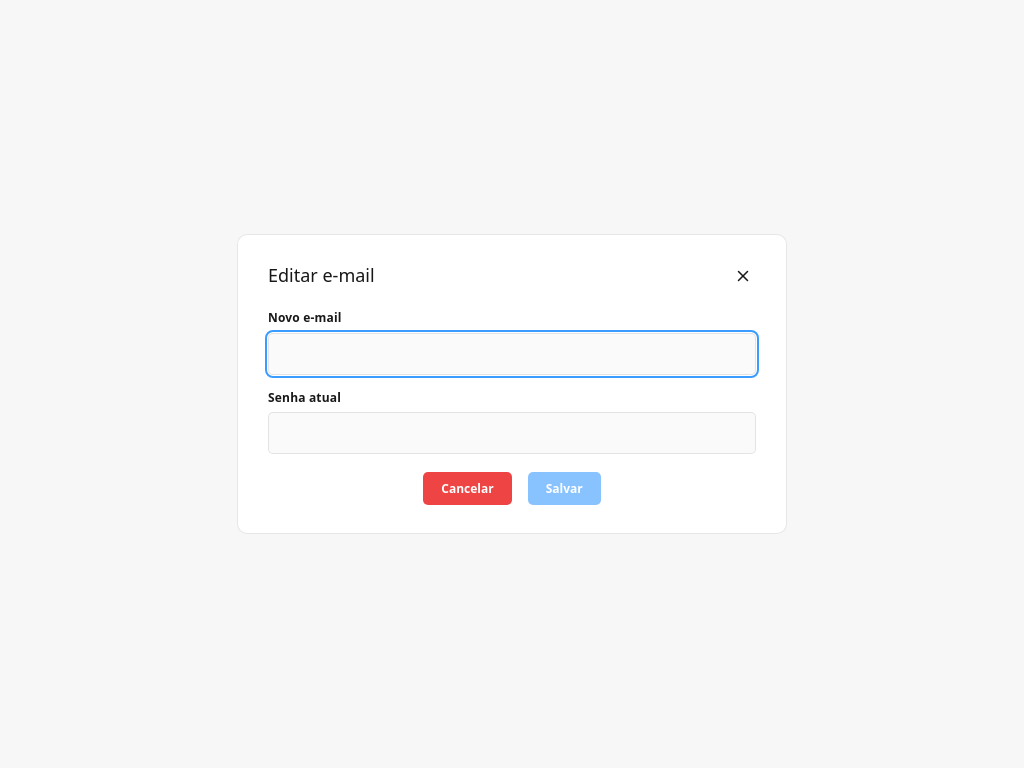
AccountActionModal › comportamentos comuns › desabilita botões enquanto saving está ativo e impede envio duplo
The width and height of the screenshot is (1024, 768).
Type "novo@empresa.com" into the field labelled "Novo e-mail" at (512, 354), box [268,332,756,374]
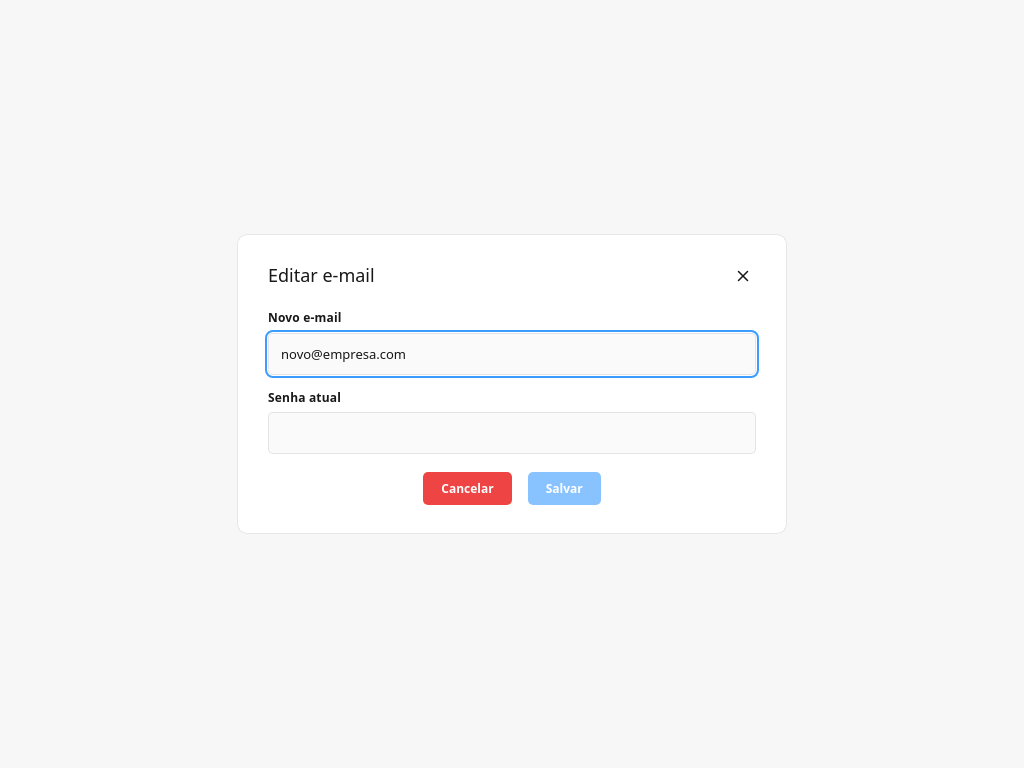
Type "senha123" into the password field labelled "Senha atual" at (512, 433), box [268,412,756,454]
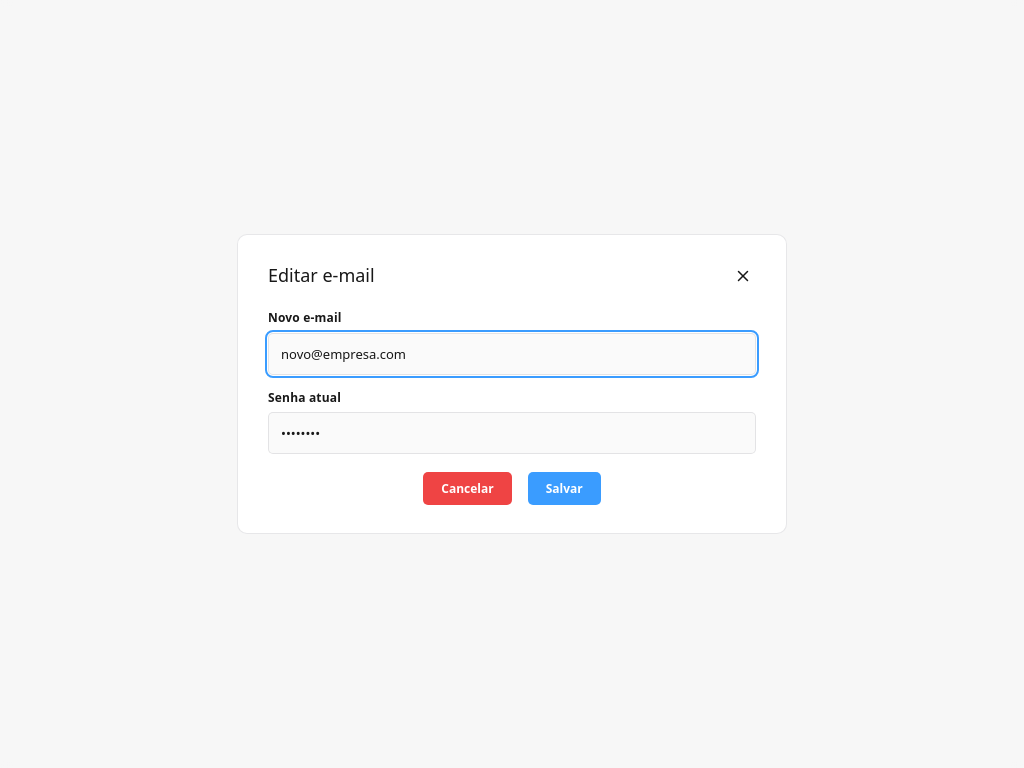
Click the button "Salvar" at (564, 488), box [528,472,601,505]
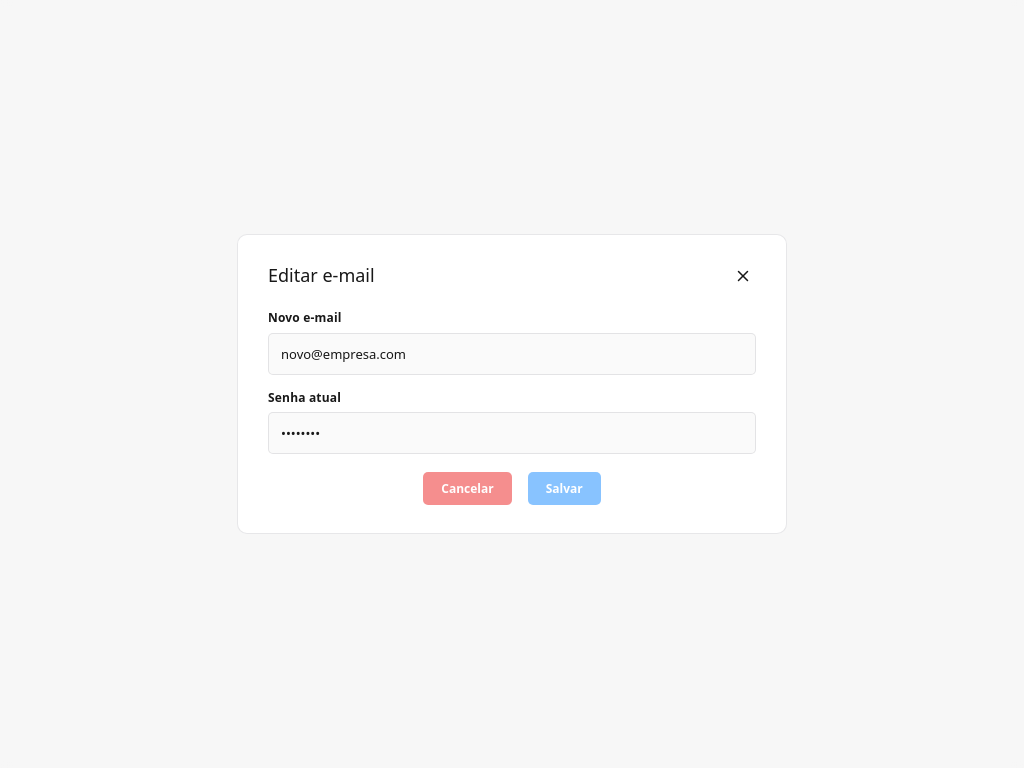
Expected: the button "Salvar" is disabled
Expected: the button "Cancelar" is disabled, [423,472,512,505]
Note: Tentativa de segundo clique
Click the button "Salvar" at (564, 488), box [528,472,601,505]
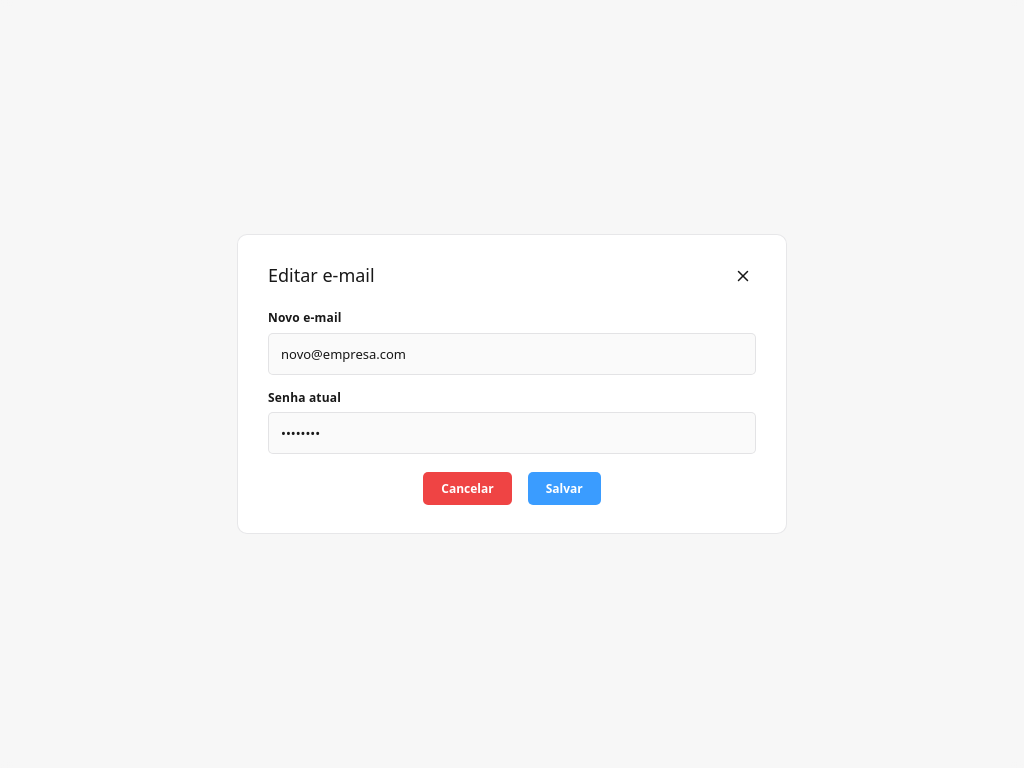
Expected: the button "Salvar" is enabled, [528,472,601,505]
